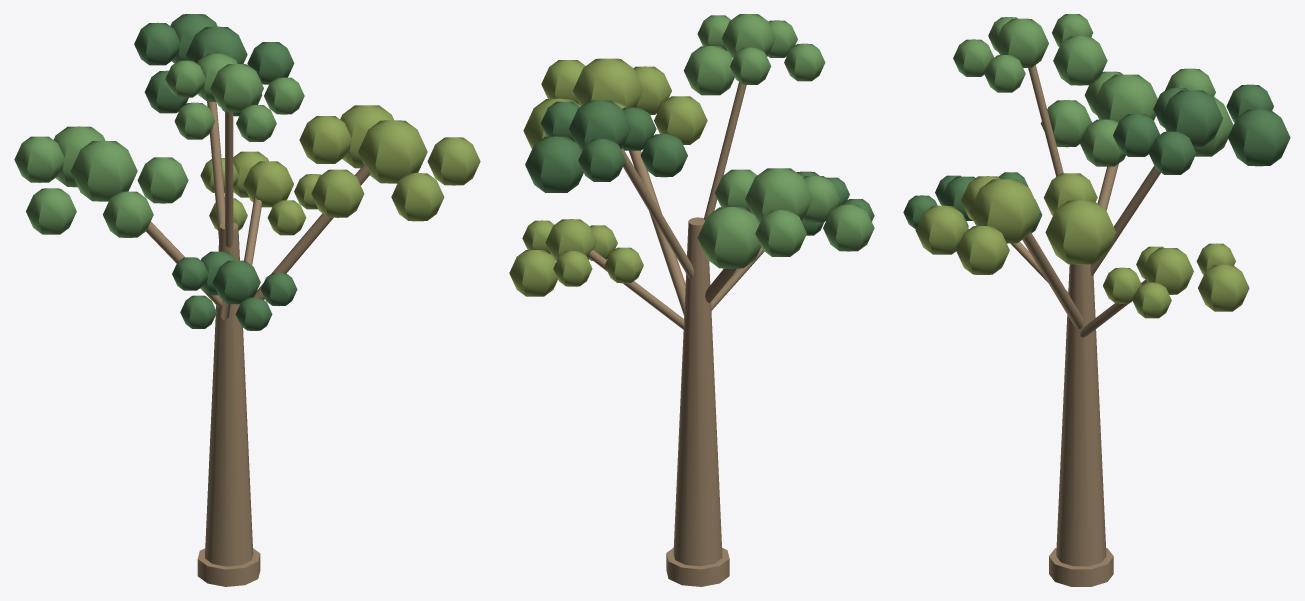
The model's file is Tree_Maple.fbx.
The picture shows the model from 3 angles, left to right: view 1: azimuth 30°, elevation 25°; view 2: azimuth 150°, elevation 25°; view 3: azimuth 270°, elevation 25°; orthographic projection.
Visible parts, largest first — view 1: LOD0; view 2: LOD0; view 3: LOD0.
Part boxes in pixels (box(x1,y1,x2,y2)): LOD0: box(14, 14, 480, 586); LOD0: box(509, 14, 874, 586); LOD0: box(903, 14, 1290, 586).
Size of what is drawn, in the model's own units: 274 by 370 by 238.
